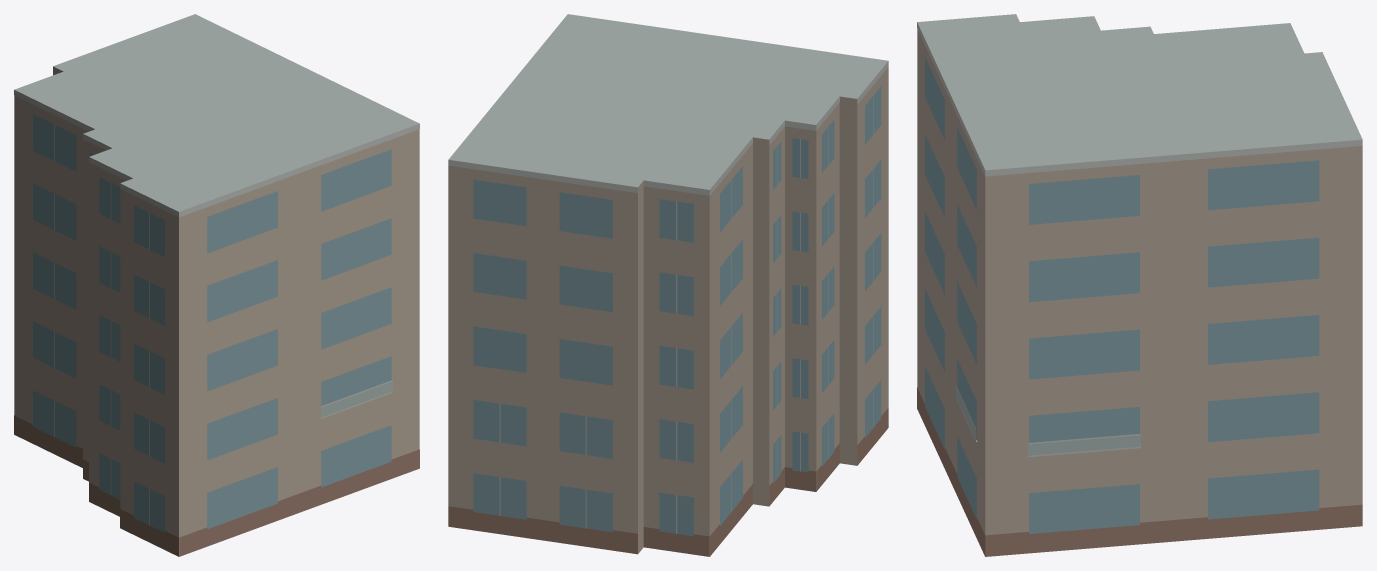
Rendered from survey-upis-32938687.glb.
3 views of the same model, side by side, from view 1: azimuth 30°, elevation 25°; view 2: azimuth 150°, elevation 25°; view 3: azimuth 270°, elevation 25° (orthographic). The views are drawn at different scales.
Visible parts, largest first — view 1: survey-upis-32938687.tmp; view 2: survey-upis-32938687.tmp; view 3: survey-upis-32938687.tmp.
Boxes of the visible parts, left/top/right/bottom form: survey-upis-32938687.tmp: left=14, top=14, right=419, bottom=556; survey-upis-32938687.tmp: left=448, top=14, right=888, bottom=556; survey-upis-32938687.tmp: left=917, top=14, right=1362, bottom=556.
Size of the model in its own units: 13.24 by 15.25 by 15.94.
